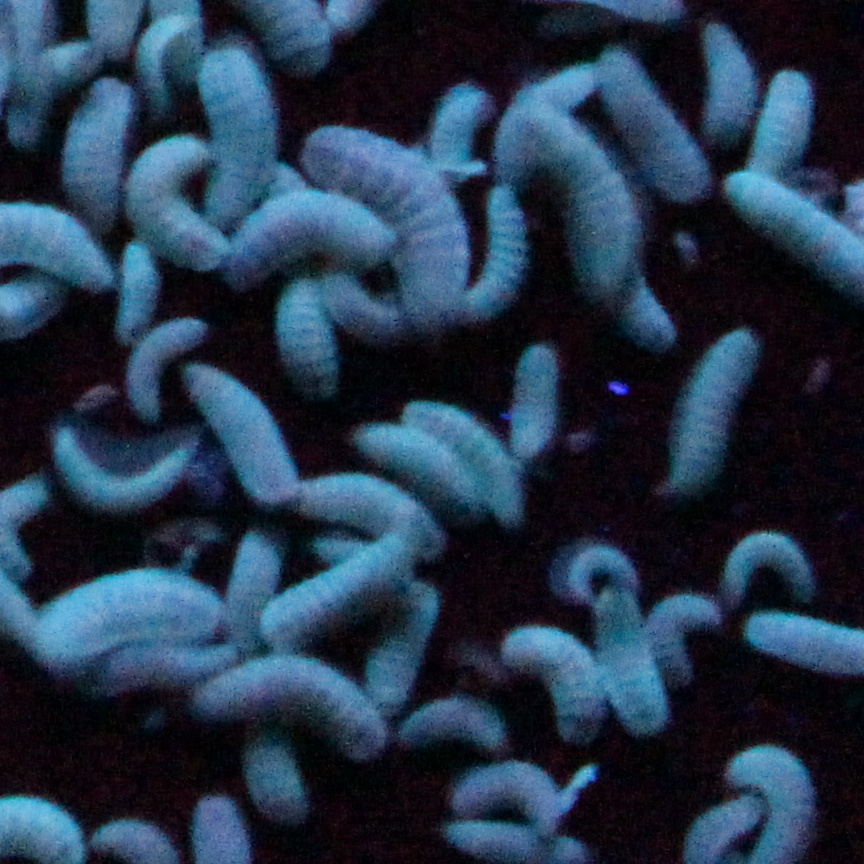larve: (356, 125, 463, 312), (273, 527, 419, 651), (541, 120, 641, 286), (207, 664, 373, 746), (670, 339, 751, 488), (424, 398, 526, 512), (51, 588, 222, 649), (497, 73, 597, 173), (143, 149, 236, 256), (619, 64, 702, 183), (507, 629, 609, 725), (222, 378, 295, 507), (361, 590, 441, 705), (53, 442, 190, 505), (224, 56, 280, 210), (234, 207, 387, 259), (234, 722, 309, 815), (319, 476, 429, 539), (76, 85, 130, 211), (287, 290, 351, 395), (758, 71, 817, 181), (702, 32, 753, 154), (22, 53, 86, 147), (236, 529, 290, 637), (470, 771, 568, 829), (134, 325, 192, 417), (385, 427, 465, 493), (731, 534, 807, 595), (656, 593, 719, 666), (107, 642, 219, 683), (619, 612, 663, 715), (414, 695, 504, 742), (517, 351, 558, 454), (443, 86, 487, 181), (148, 10, 185, 117), (483, 186, 512, 312), (122, 246, 158, 339), (634, 278, 675, 356), (575, 551, 646, 595)
